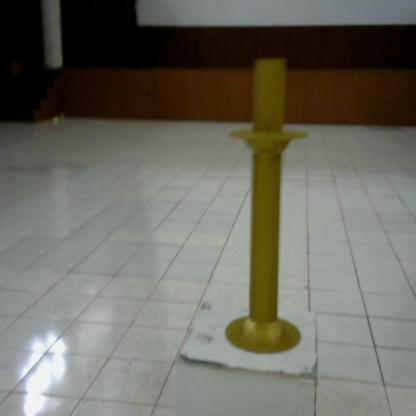pole: (218, 51, 314, 359)
